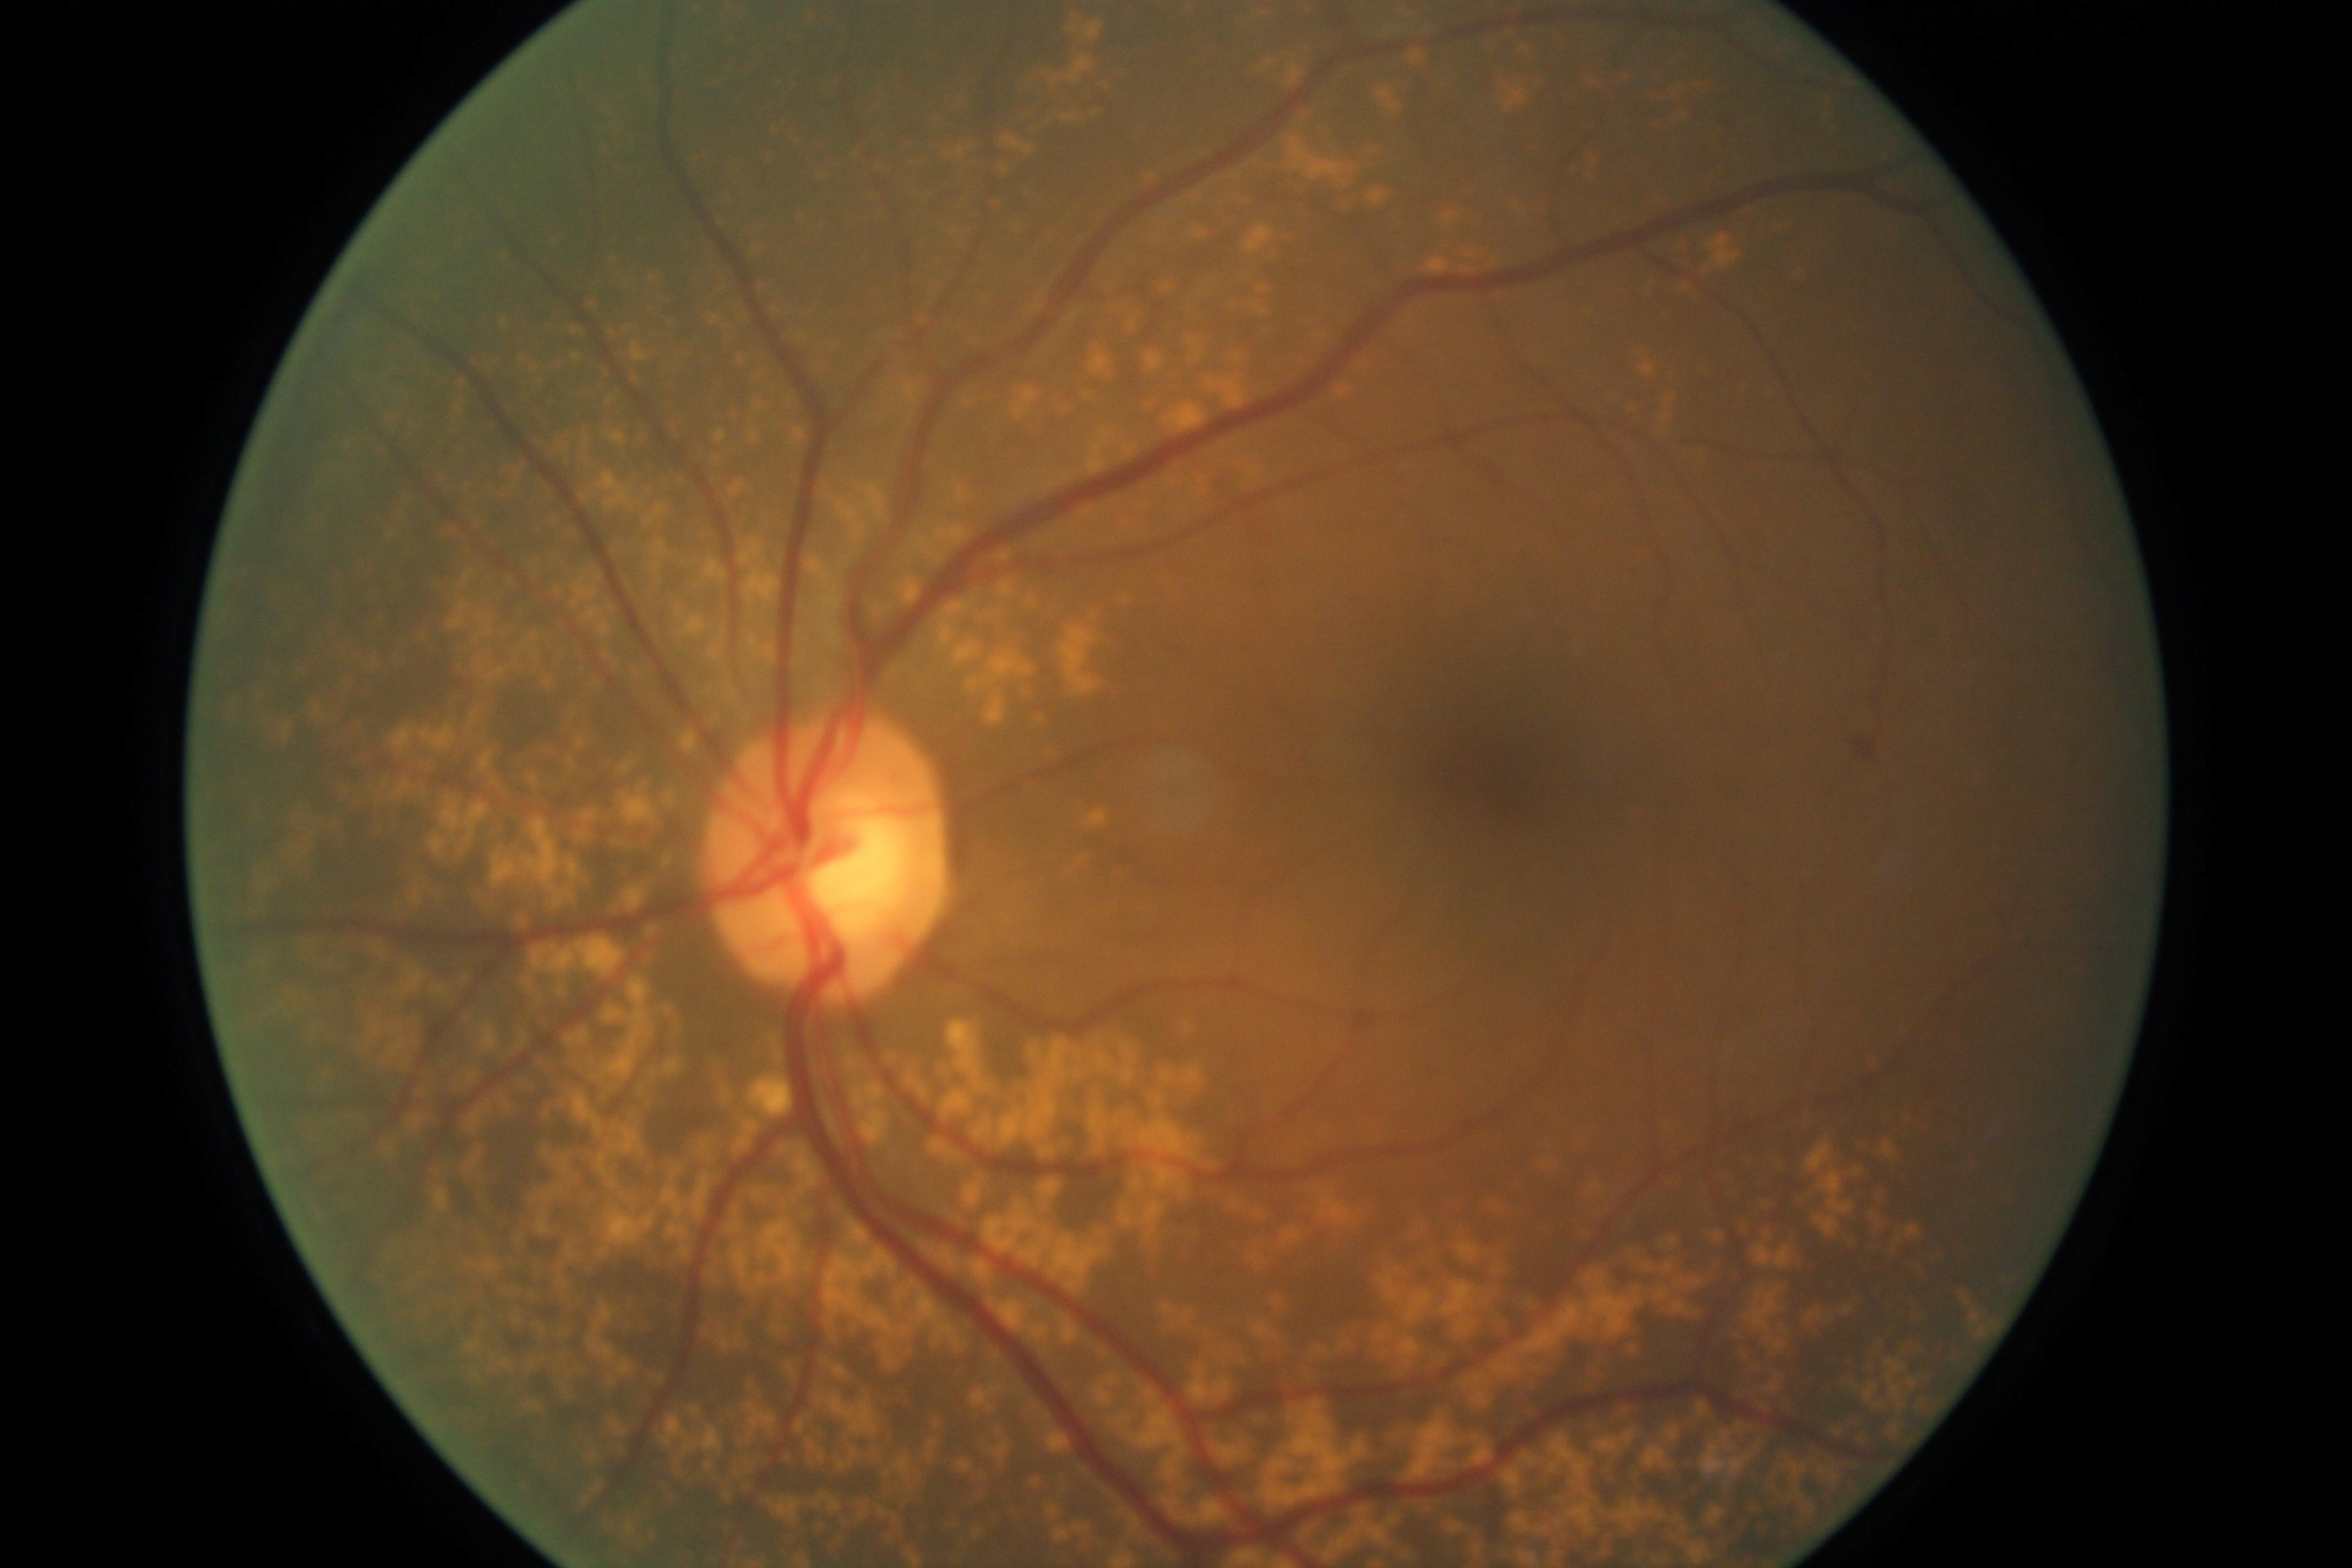Optic-nerve: (712, 726, 948, 1017)
macula: (1274, 534, 1699, 933)
